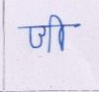i_matra: (51, 14, 68, 50)
